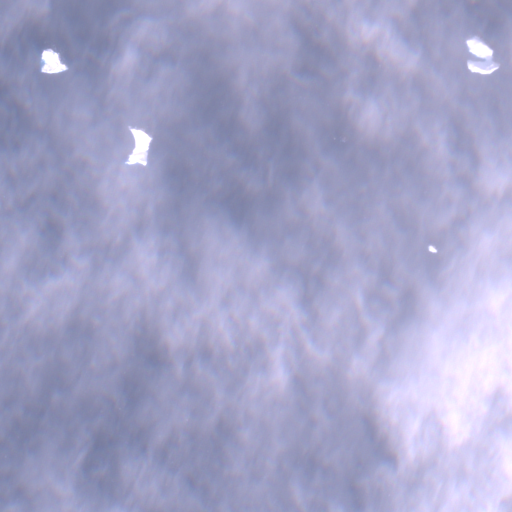Iceberg: (466, 36, 500, 73), (124, 127, 152, 165), (41, 48, 68, 73), (429, 245, 436, 252)
